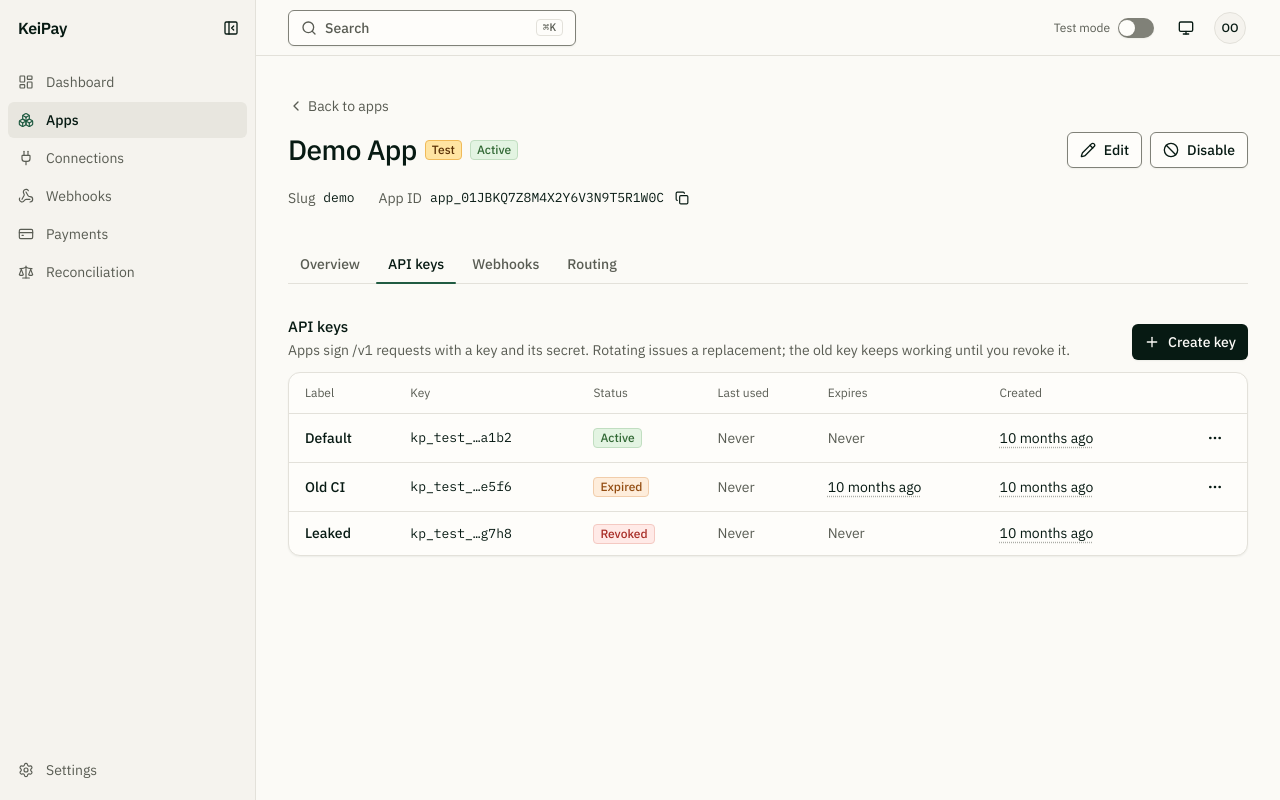
API keys tab › offers rotate only on active keys and revoke on anything not revoked
The width and height of the screenshot is (1280, 800).
Expected: the text "kp_test_…g7h8" is shown, [410,525,512,542]
Click the button named "Actions for key Old CI (kp_test_…e5f6)".
click(1215, 486)  # box [1199,470,1231,502]
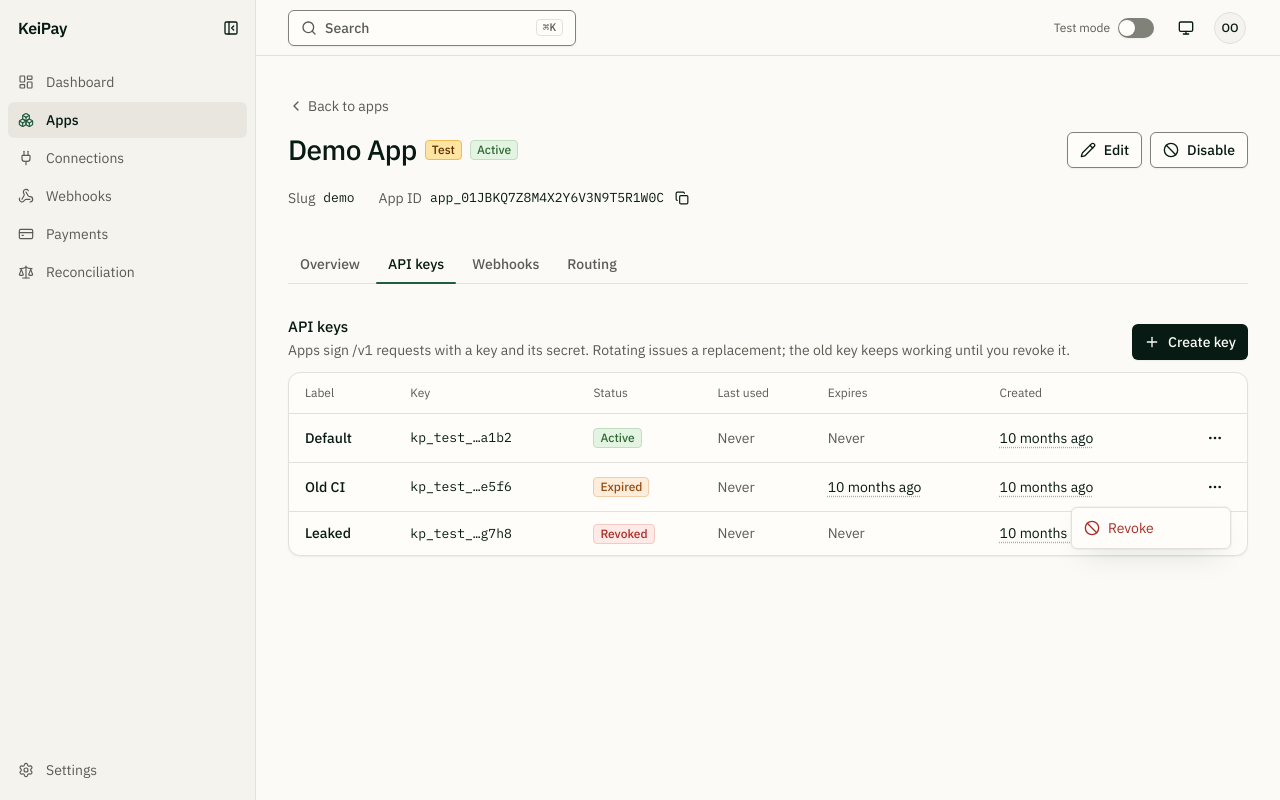
Expected: the menu item "Rotate" is not shown
Now the menu item "Revoke" is shown, box [1084,519,1154,537]
Press Escape
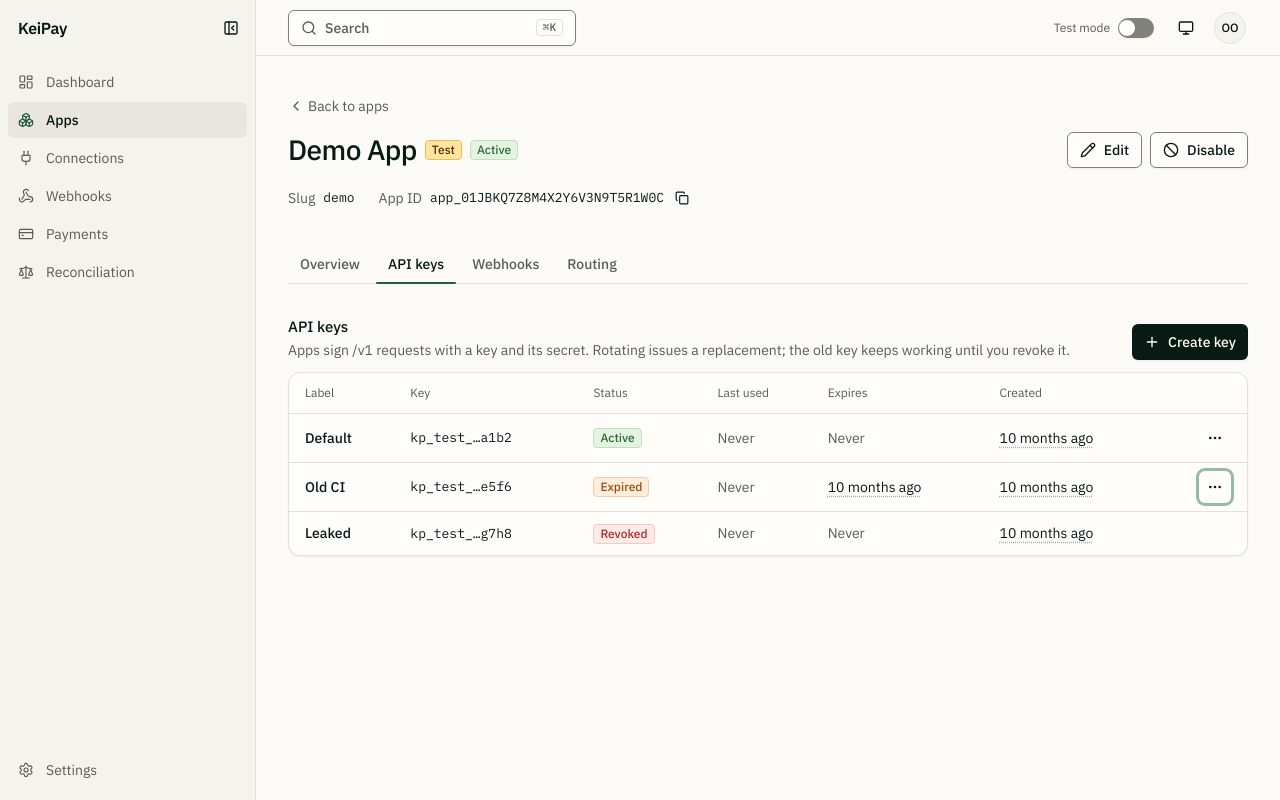
Click the button named "Actions for key Default (kp_test_…a1b2)".
click(1215, 438)  # box [1199,422,1231,454]
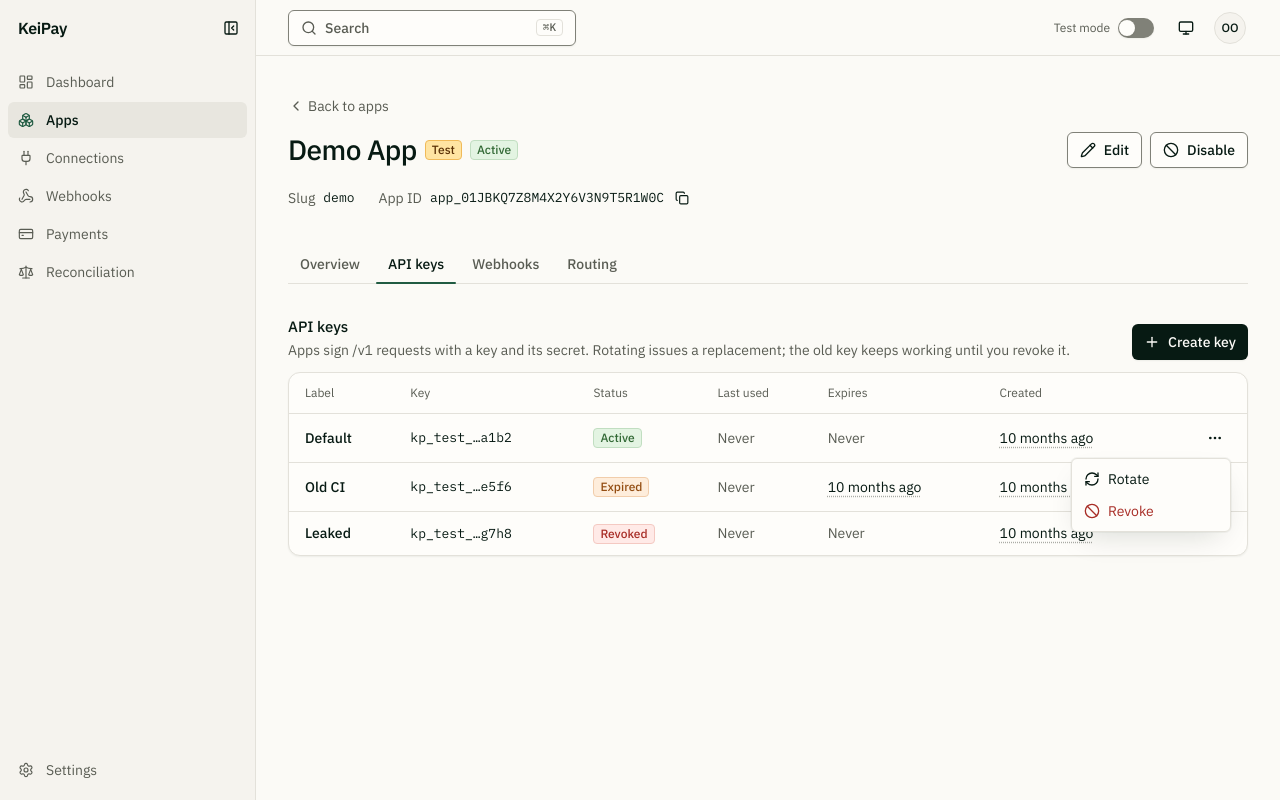
Now the menu item "Rotate" is shown, box [1084,470,1150,488]
Now the menu item "Revoke" is shown, box [1084,502,1154,520]
